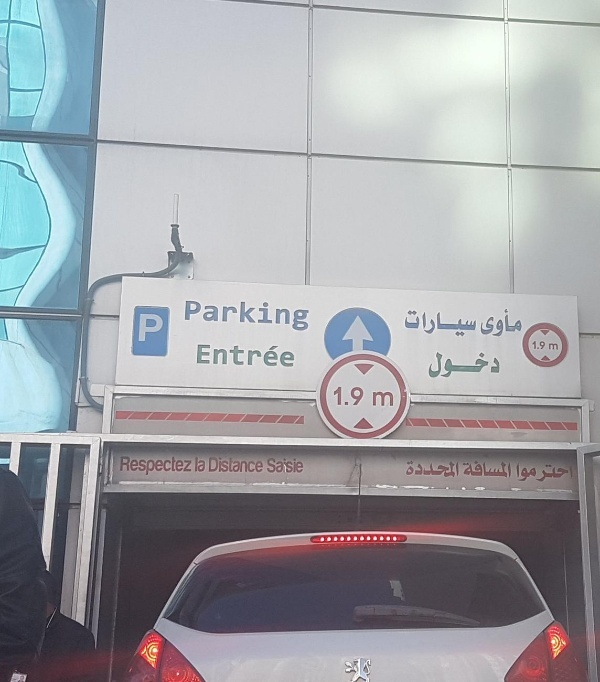text: (193, 298, 208, 332), (209, 298, 224, 332), (225, 298, 240, 332), (241, 298, 256, 332), (257, 298, 272, 332), (273, 298, 288, 332), (289, 298, 304, 332), (145, 312, 160, 344), (481, 307, 496, 339), (497, 307, 512, 339), (513, 307, 528, 339), (433, 351, 448, 380), (449, 351, 464, 380), (465, 351, 480, 380), (481, 351, 496, 380), (417, 309, 432, 337), (433, 309, 448, 337), (449, 309, 464, 337), (209, 344, 224, 369), (225, 344, 240, 369), (241, 344, 256, 369), (257, 344, 272, 369), (273, 344, 288, 369), (465, 309, 478, 337), (182, 298, 192, 332), (404, 309, 416, 337), (177, 457, 193, 477), (529, 463, 544, 484), (545, 463, 560, 484), (337, 386, 352, 407), (196, 344, 208, 369), (129, 457, 144, 477), (145, 457, 160, 477), (161, 457, 176, 477), (561, 463, 574, 484), (353, 386, 366, 407), (305, 298, 313, 332), (465, 461, 480, 479), (481, 461, 496, 479), (497, 461, 512, 479), (417, 461, 432, 479), (433, 461, 448, 479), (209, 456, 224, 474), (225, 456, 240, 474), (241, 456, 256, 474), (273, 457, 288, 474), (289, 457, 304, 474), (516, 463, 528, 484), (371, 391, 384, 408), (195, 457, 208, 474), (405, 461, 416, 479), (449, 461, 460, 479), (138, 312, 144, 344), (120, 457, 128, 477), (385, 391, 394, 408), (289, 344, 295, 369), (497, 351, 502, 380), (257, 456, 264, 474), (532, 340, 544, 350), (161, 312, 164, 344), (267, 457, 272, 474), (548, 344, 560, 351), (430, 351, 432, 380), (334, 386, 336, 407), (463, 461, 464, 479)
